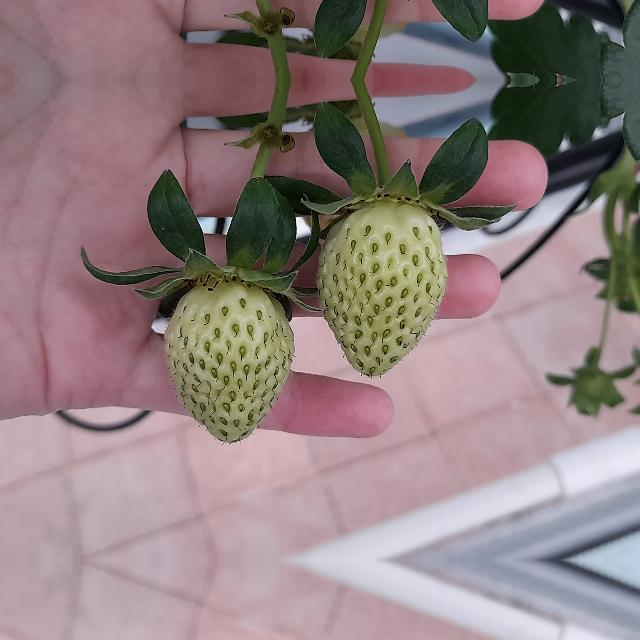Health_25: (312, 186, 446, 382), (164, 286, 294, 442)
